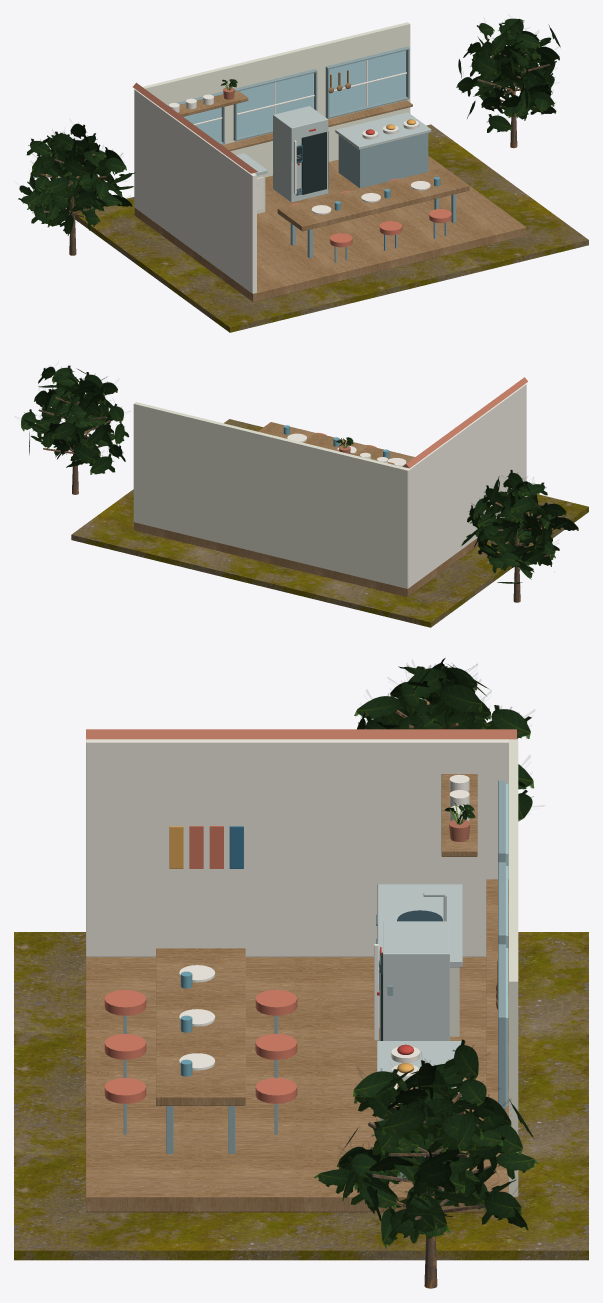
File: interior-school.glb
3 renders of one model, top to bottom at view 1: azimuth 30°, elevation 25°; view 2: azimuth 150°, elevation 25°; view 3: azimuth 270°, elevation 25°, orthographic. The views are drawn at different scales.
Visible parts, largest first — view 1: room__wood, room__grass, room__white, room__leaves, room__chalk, room__glass-light, room__steel, room__silver, room__black, room__terracotta, room__trunk, room__coral; view 2: room__chalk, room__grass, room__leaves, room__white, room__wood, room__terracotta, room__trunk; view 3: room__white, room__wood, room__grass, room__leaves, room__silver, room__coral, room__terracotta, room__chalk, room__steel, room__trunk, room__glass-light, room__orange.
Boxes of the visible parts, x1,y1,x2,y2 form: room__wood: (134, 70, 526, 302); room__grass: (75, 124, 588, 332); room__white: (134, 60, 430, 293); room__leaves: (18, 18, 560, 235); room__chalk: (134, 22, 410, 213); room__glass-light: (184, 50, 405, 158); room__steel: (167, 46, 456, 262); room__silver: (236, 106, 431, 202); room__black: (296, 132, 326, 194); room__terracotta: (133, 82, 257, 173); room__trunk: (40, 53, 549, 255); room__coral: (290, 178, 451, 247); room__chalk: (133, 402, 409, 588); room__grass: (71, 419, 588, 627); room__leaves: (21, 365, 578, 583); room__white: (287, 383, 526, 588); room__wood: (134, 422, 478, 596); room__terracotta: (339, 377, 527, 468); room__trunk: (38, 396, 553, 602); room__white: (86, 739, 508, 1089); room__wood: (86, 774, 516, 1212); room__grass: (14, 932, 588, 1260); room__leaves: (314, 658, 539, 1248); room__silver: (377, 884, 463, 1103); room__coral: (104, 826, 297, 1103); room__terracotta: (86, 729, 516, 841); room__chalk: (450, 738, 518, 1196); room__steel: (123, 780, 505, 1178); room__trunk: (368, 700, 497, 1288); room__glass-light: (378, 784, 508, 1105); room__orange: (169, 826, 413, 1089).
Size of the model in its own units: 15.95 by 3.87 by 8.
19 materials, 4 textured.
